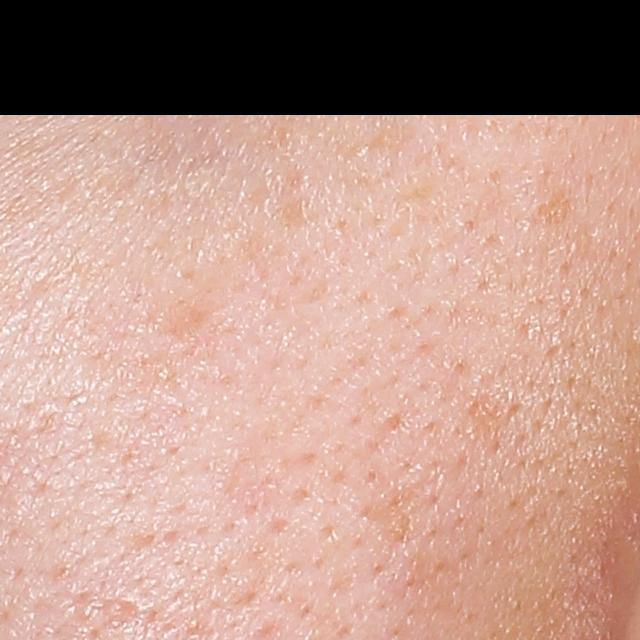melasma: (525, 184, 576, 232)
